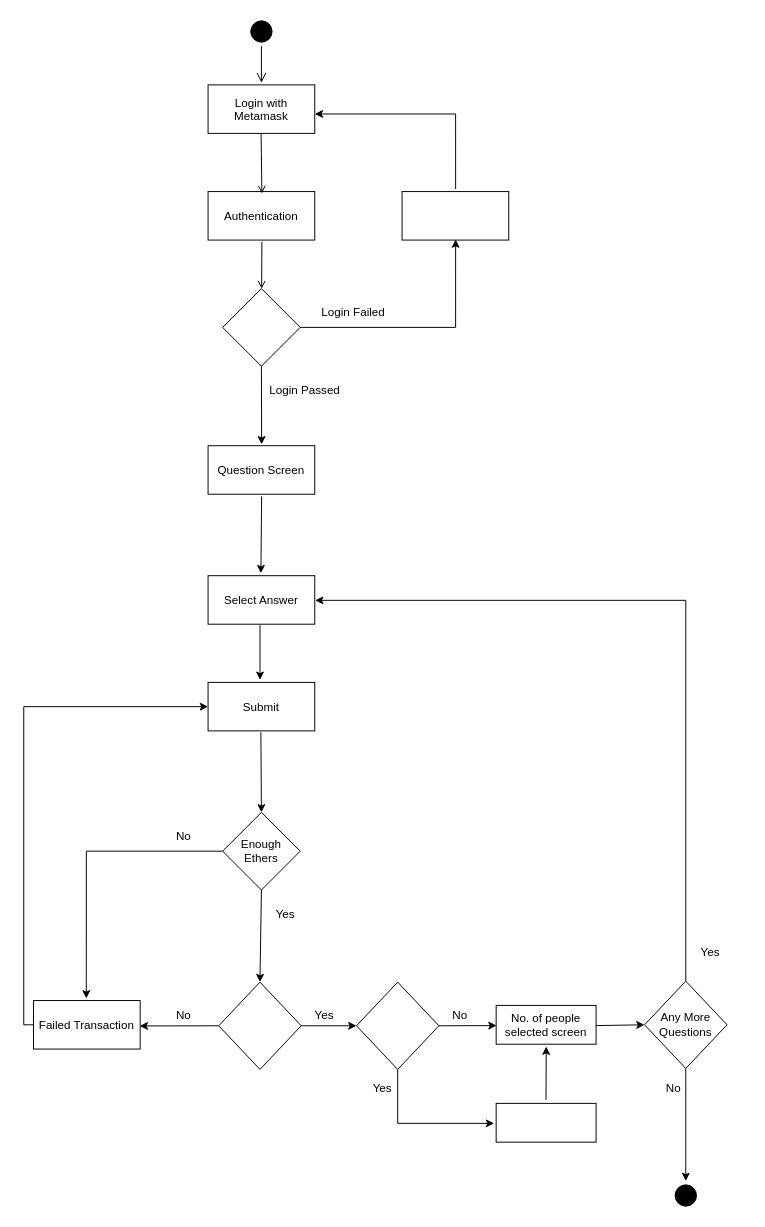
Some shapes in this 765 by 1227 pixel diagram are drawn without their labels. Here are the shapes that lost their labels. From the top down, the centre of each, then its label:
At pixel 455 215: "Incomplete Screen".
At pixel 261 327: "Check".
At pixel 259 1025: "Accept Transaction".
At pixel 397 1025: "Correct Answer".
At pixel 545 1122: "Increment Score".
